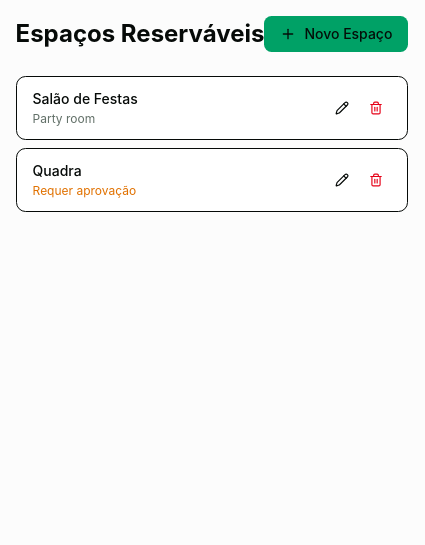
ReservableSpacesPage › shows create form when new space button is clicked
The image size is (425, 545).
What coordinates should you click on to do the following:
click the button "Novo Espaço"
I would click on:
 (336, 34)
Its box is left=264, top=16, right=408, bottom=52.
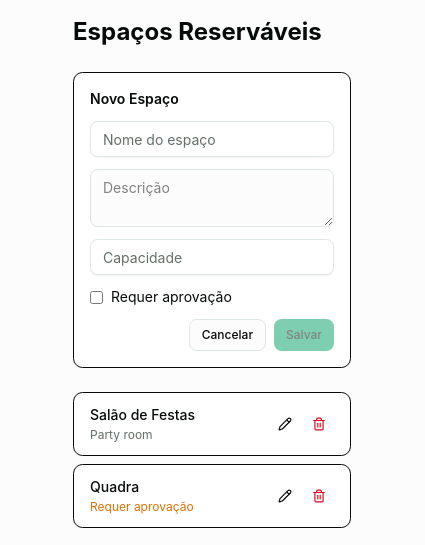
Expected: the field with placeholder "Nome do espaço" is shown, left=90, top=121, right=334, bottom=157
